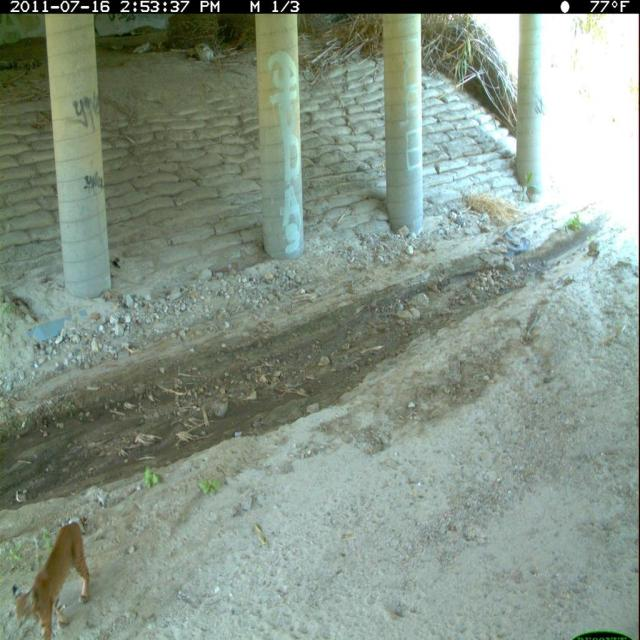bobcat: (10, 518, 94, 640)
